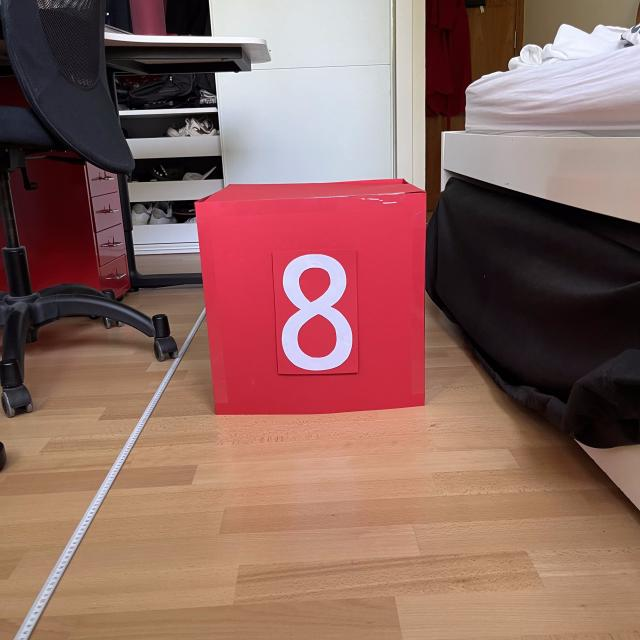box: (189, 174, 431, 418)
